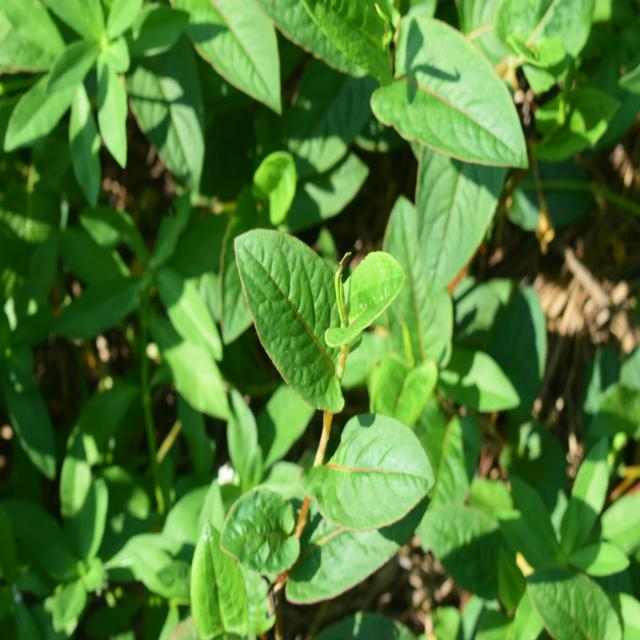Chinese_knotweed: (219, 226, 442, 616)
